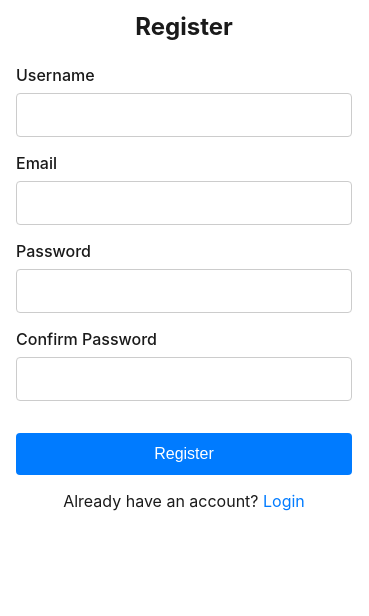
Scenario: RegisterForm Component › should display validation error for weak password
This screenshot has width=369, height=616.
In the password field labelled "Password": (184, 291) [16,269,352,313], type "short"
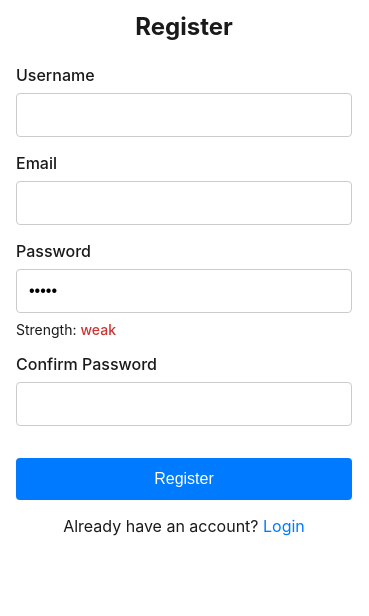
In the password field labelled "Confirm Password": (184, 404) [16,382,352,426], type "short"
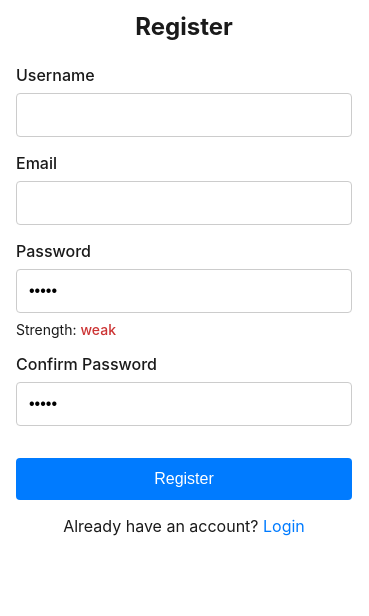
Click the button "Register": (184, 479) [16,458,352,500]
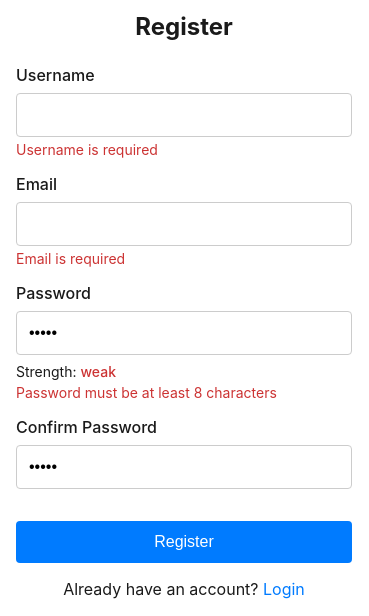
Expected: the text "Password must be at least 8 characters" is shown, [16,384,277,401]
